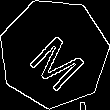M_NE: (19, 19, 88, 88)
